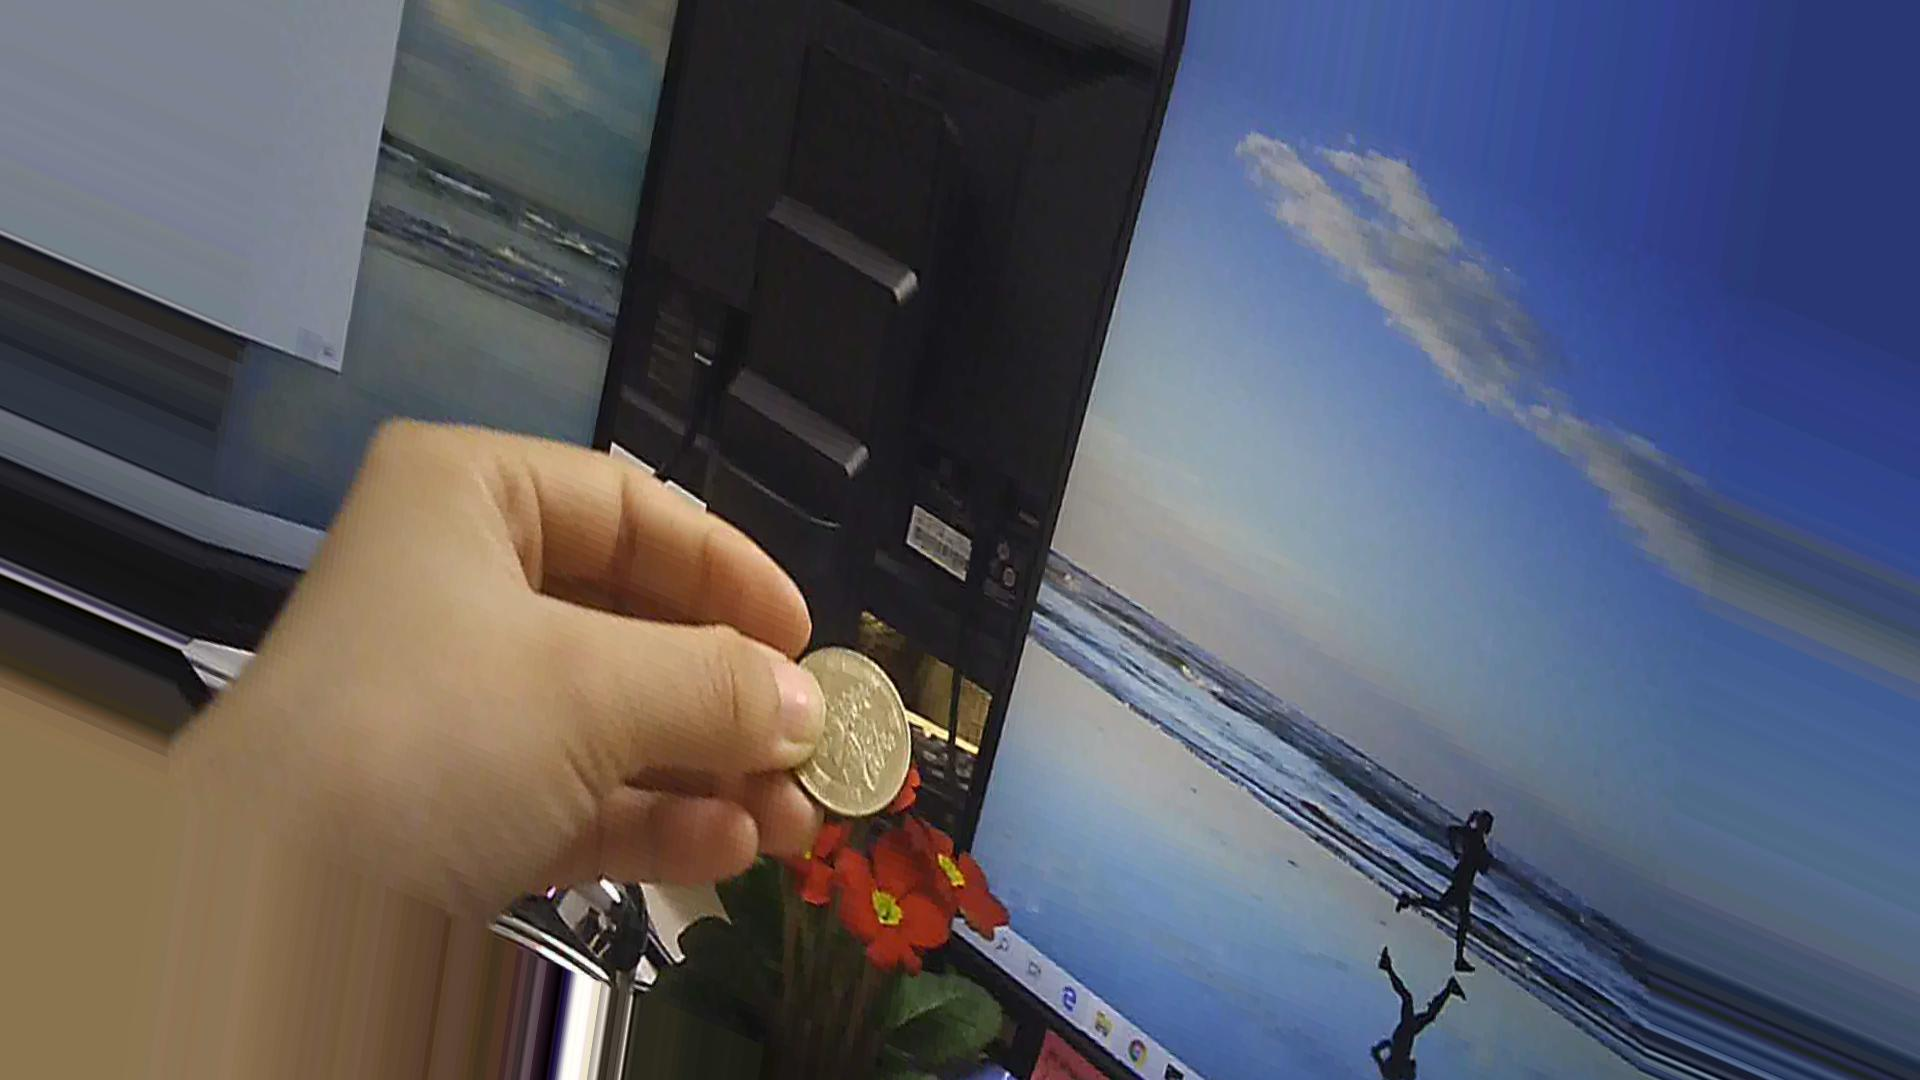500 Yen: (769, 637, 915, 833)
